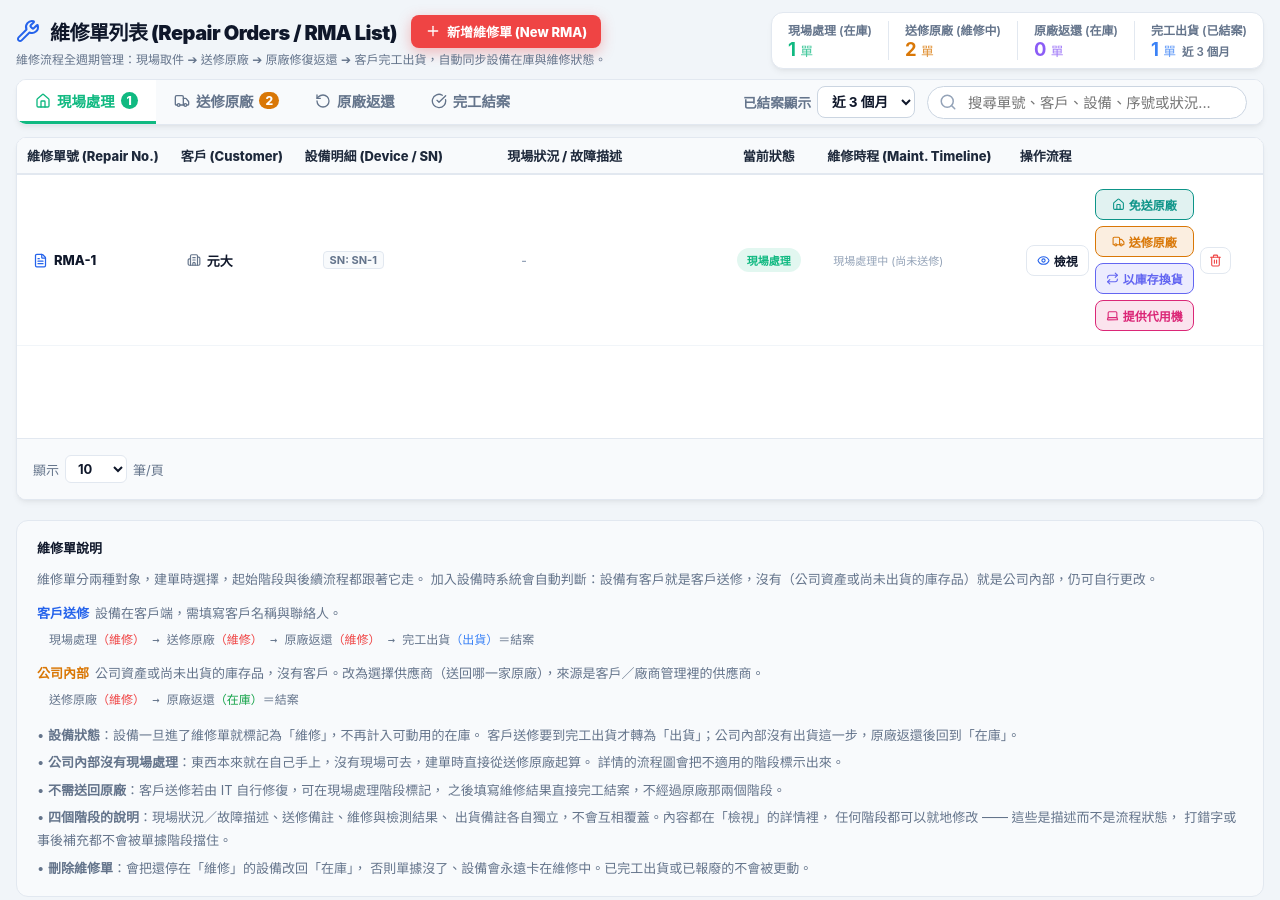
Test: 維修單列表的頁籤 › 點選後底線換成該狀態的顏色
expect the text "RMA-1" is shown: met, box [54, 252, 96, 268]
Step 1. Click the button "送修原廠 2" → (226, 102), box [156, 80, 297, 124]
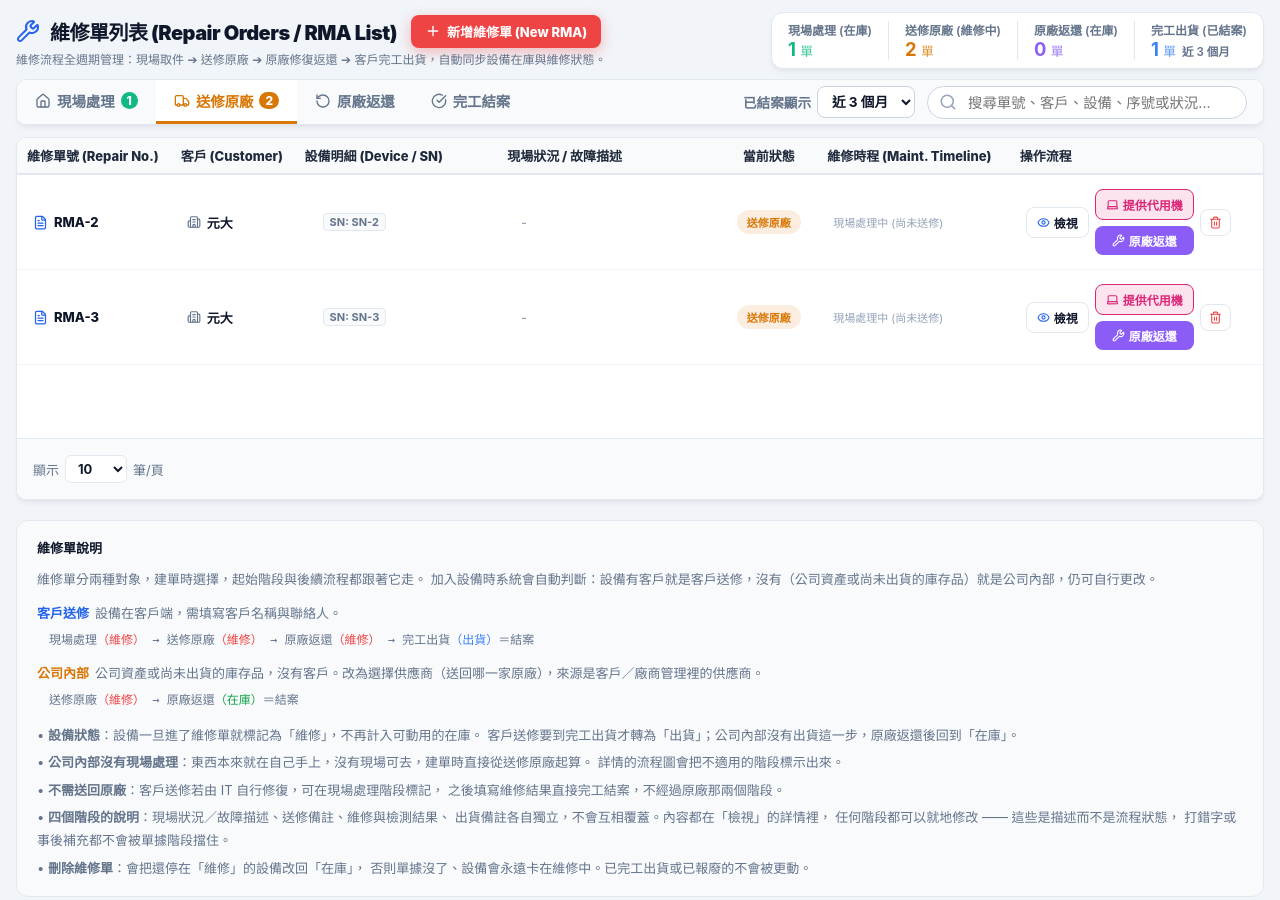
expect the text "RMA-1" is gone: met
expect the text "RMA-2" is shown: met, box [54, 214, 99, 230]
